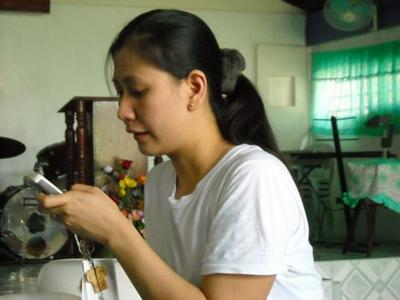person: (37, 9, 323, 300)
